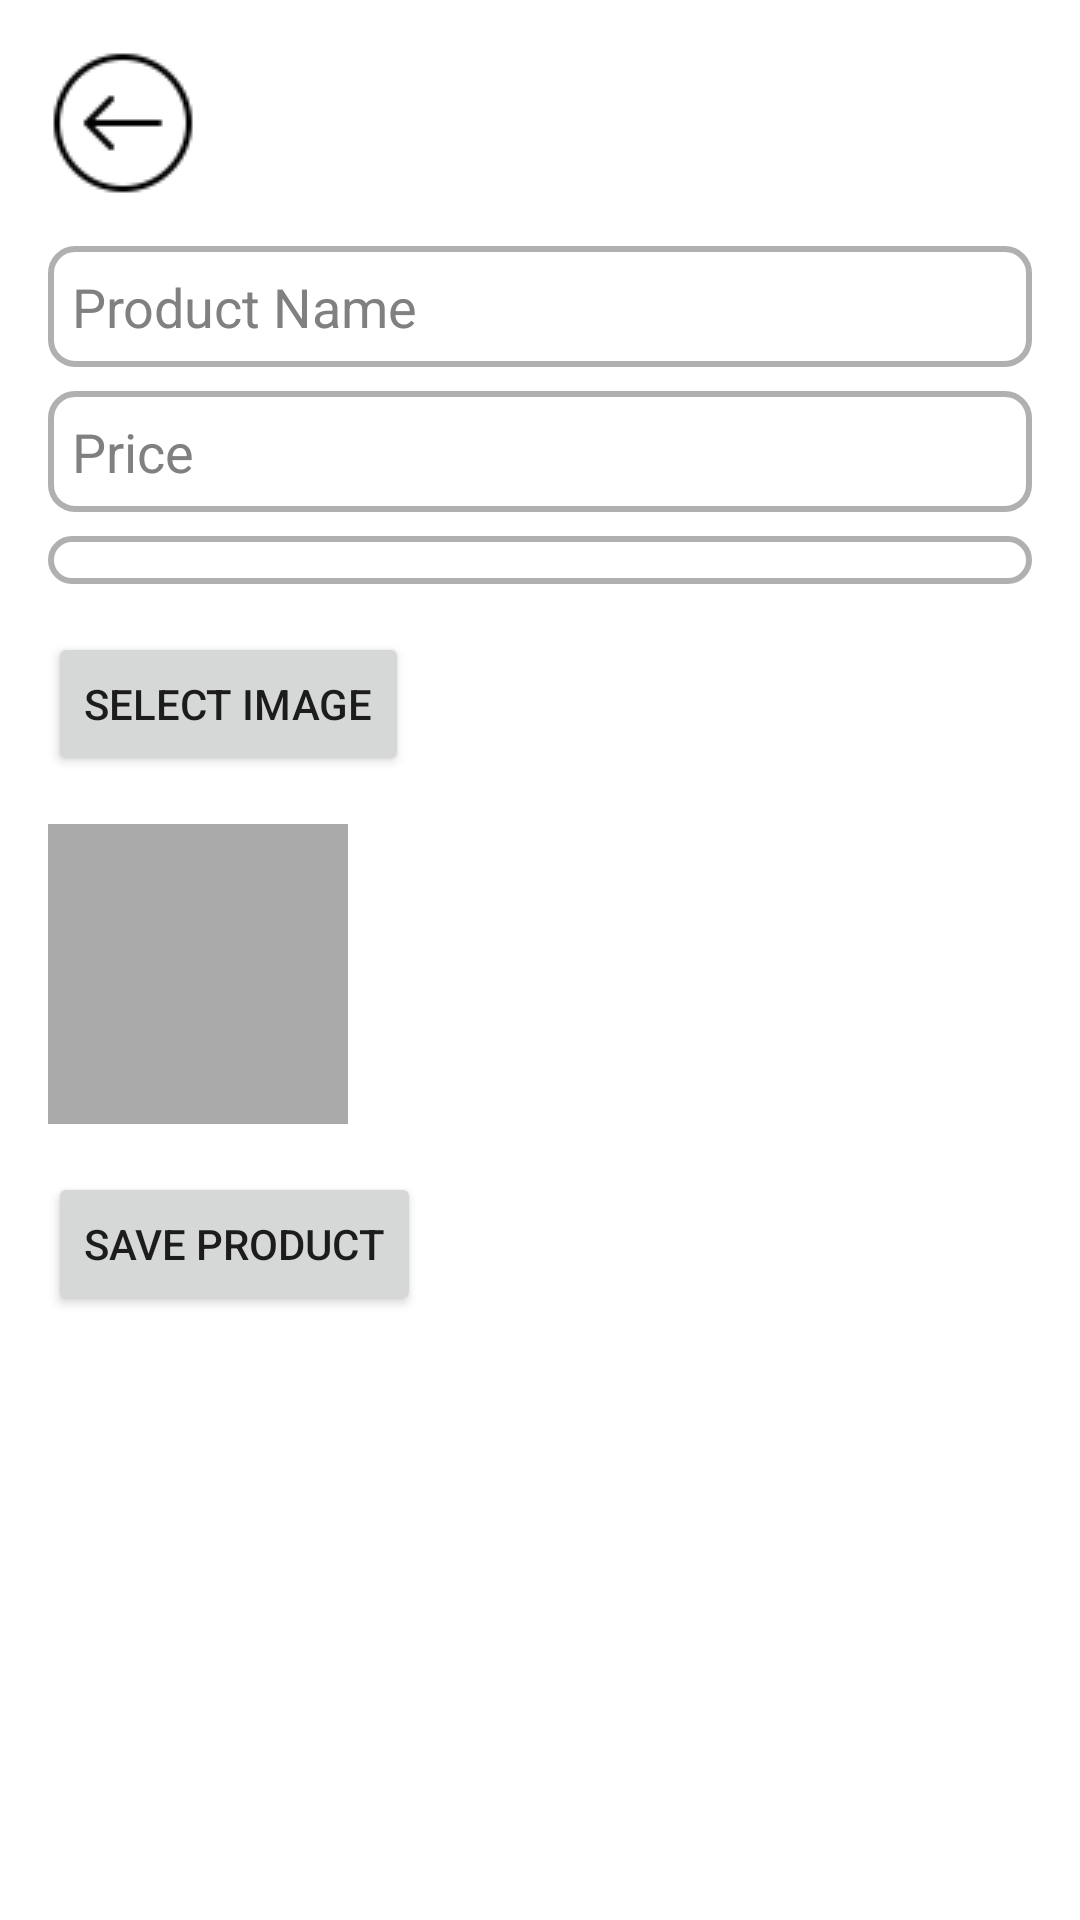

Point at icon controls on the screen. Image size 1080px x 1920px, points as (x=x, y=y).
Back Button: (x=123, y=123)
